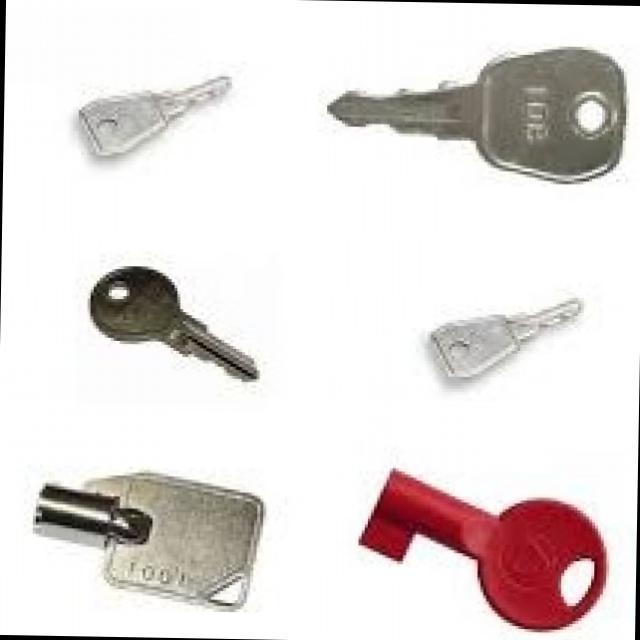Keys: (356, 467, 608, 633), (328, 46, 626, 186), (33, 469, 265, 613), (88, 264, 260, 384), (428, 299, 588, 383), (78, 74, 230, 160)
